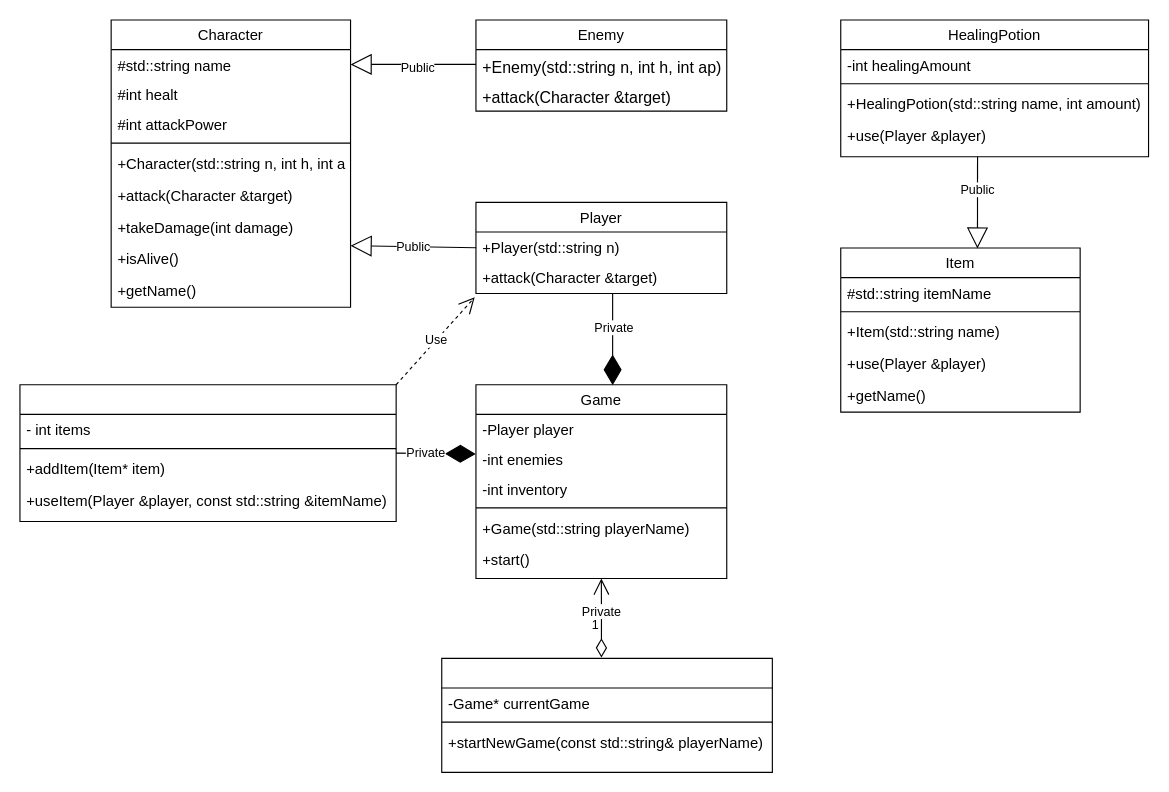
Some shapes in this 1169 by 792 pixel diagram are drawn without their labels. The box of each missing label's shape, as (x1, y1, x2, y2) in pixels:
GameStateManager: (441, 657, 772, 772)
Inventory: (19, 384, 396, 522)
